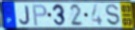2: (69, 4, 84, 28)
3: (52, 3, 68, 27)
4: (91, 4, 103, 27)
J: (19, 5, 31, 26)
P: (32, 4, 48, 27)
S: (105, 4, 121, 27)
